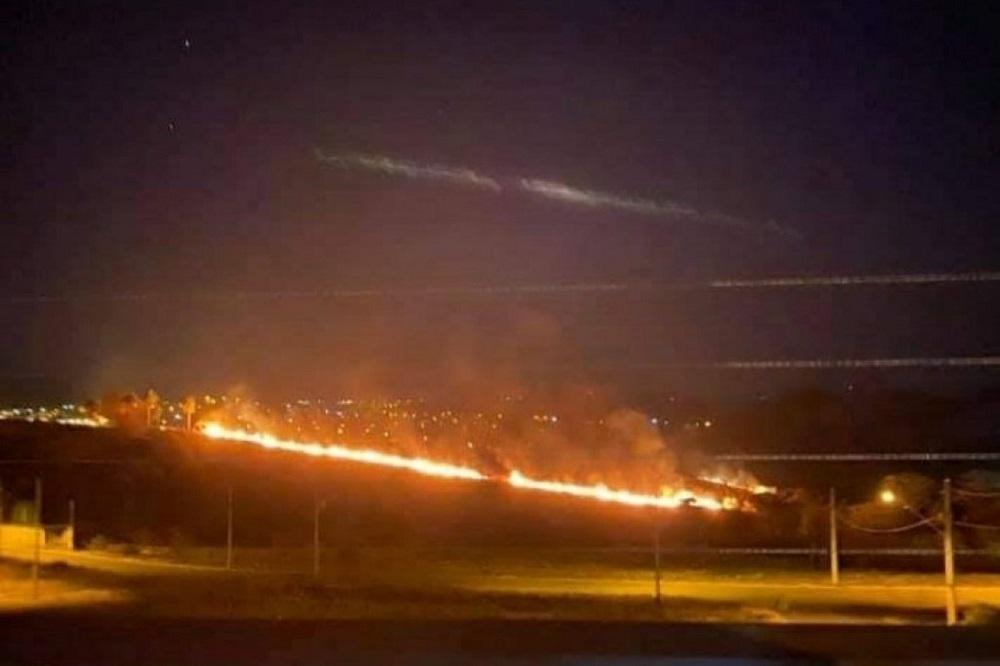fire: (192, 425, 490, 485), (505, 475, 713, 512)
